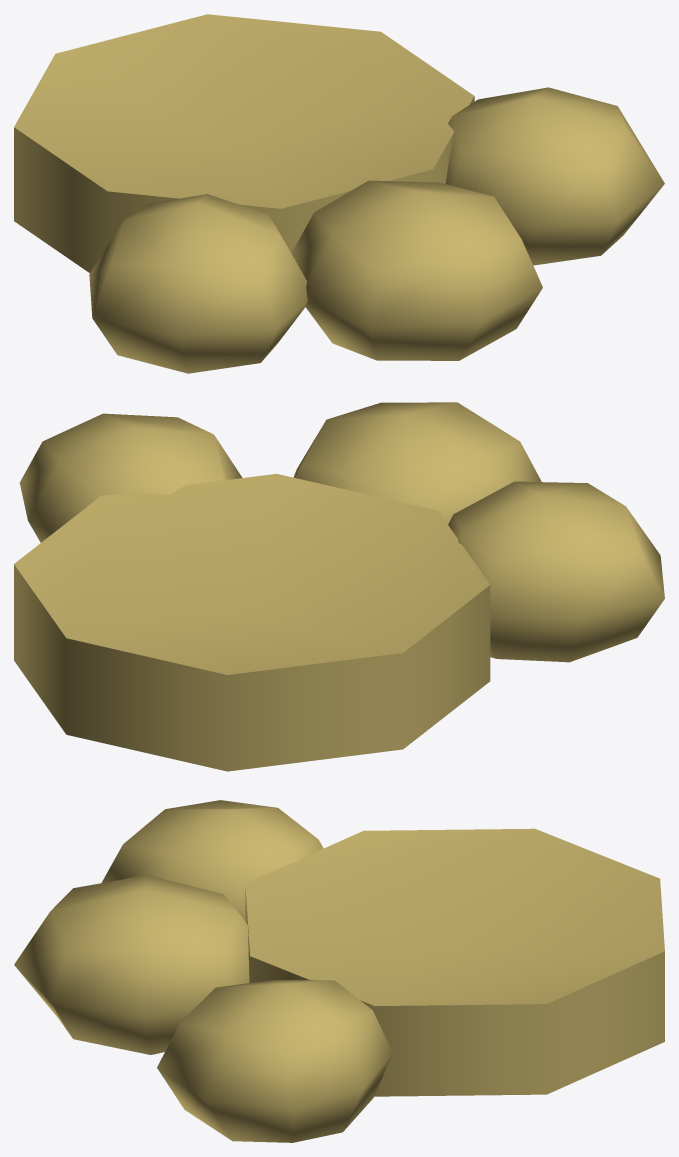
File: Dog paw.FBX
3 renders of one model, top to bottom at view 1: azimuth 30°, elevation 25°; view 2: azimuth 150°, elevation 25°; view 3: azimuth 270°, elevation 25°, orthographic. The views are drawn at different scales.
Parts seen in each view (by area): view 1: obj_23; view 2: obj_23; view 3: obj_23.
Part boxes in pixels (x1,y1,x2,y2): obj_23: (14, 14, 664, 373); obj_23: (14, 402, 664, 771); obj_23: (14, 800, 664, 1142).
Bounding box in the file's own units: 16.4 × 4.3 × 16.34.
